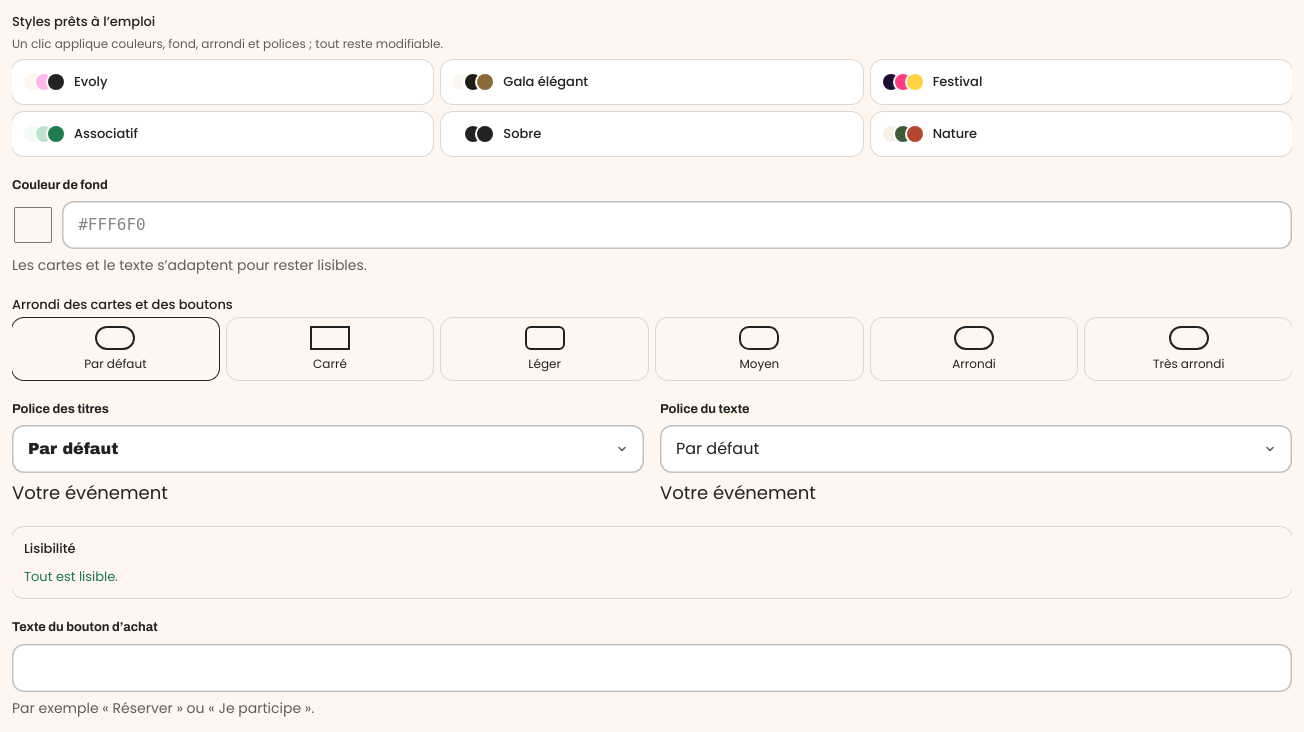
écran de réglage du thème de la billetterie › style prêt à l'emploi : couleurs, fond, arrondi et polices appliqués, l'aperçu le reflète
Click the button "Gala élégant": (546,81) [441,60,863,104]
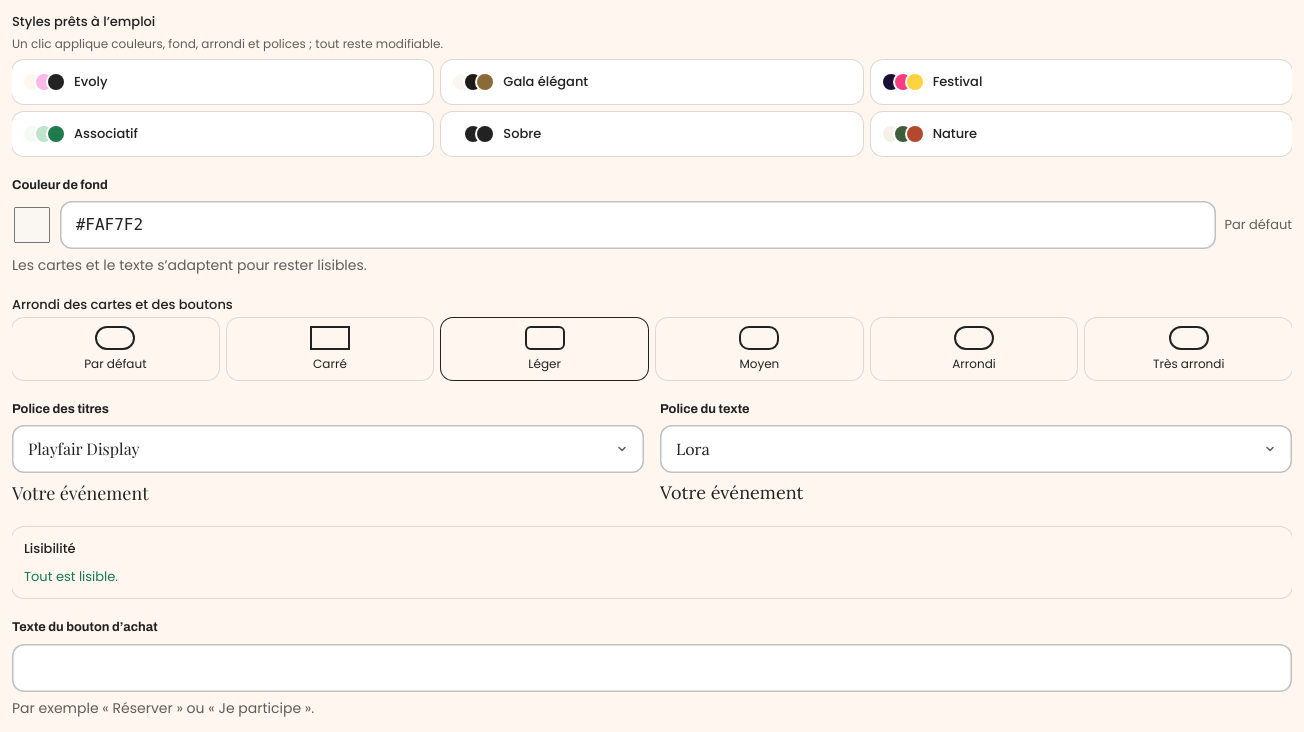
Expected: the element named "headingFont" holds "playfair-display", [12,425,644,473]
Expected: the field with id "backgroundColor" holds "#FAF7F2", [60,201,1216,249]
